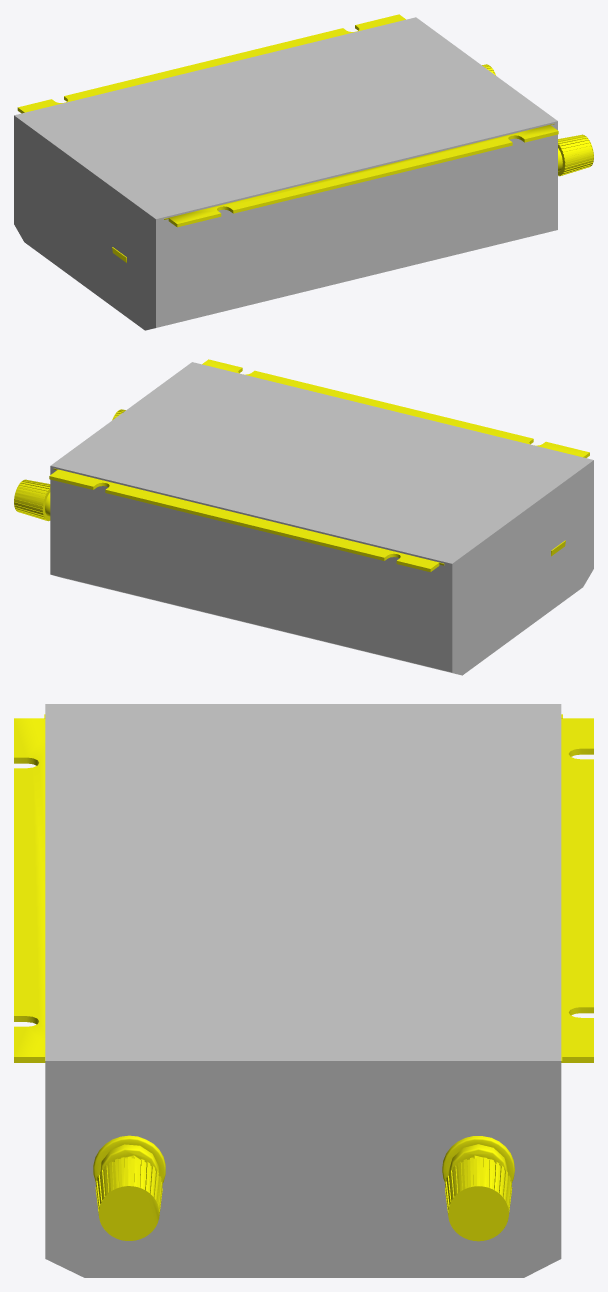
Rendered from sm_hana_pv_inverter.glb.
3 renders of one model, top to bottom at view 1: azimuth 30°, elevation 25°; view 2: azimuth 150°, elevation 25°; view 3: azimuth 270°, elevation 25°, orthographic. The views are drawn at different scales.
Parts seen in each view (by area): view 1: sm_color_common, sm_hana_pv_inverter; view 2: sm_color_common, sm_hana_pv_inverter; view 3: sm_color_common, sm_hana_pv_inverter.
Boxes of the visible parts, box(x1,y1,x2,y2) form: sm_color_common: box(14, 17, 557, 330); sm_hana_pv_inverter: box(17, 14, 593, 262); sm_color_common: box(50, 362, 593, 675); sm_hana_pv_inverter: box(14, 359, 589, 572); sm_color_common: box(45, 704, 561, 1277); sm_hana_pv_inverter: box(14, 714, 593, 1241).
Bounding box in the file's own units: 0.6359 × 0.1598 × 0.3869.
2 materials, 1 textured.
